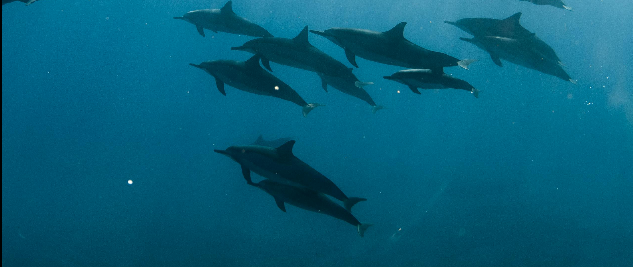dolphin: (213, 137, 370, 214), (229, 24, 373, 90), (188, 52, 328, 119), (308, 21, 480, 69), (245, 179, 373, 238), (443, 10, 569, 67), (460, 30, 579, 87), (170, 1, 276, 39), (319, 65, 386, 115), (383, 67, 486, 99)
